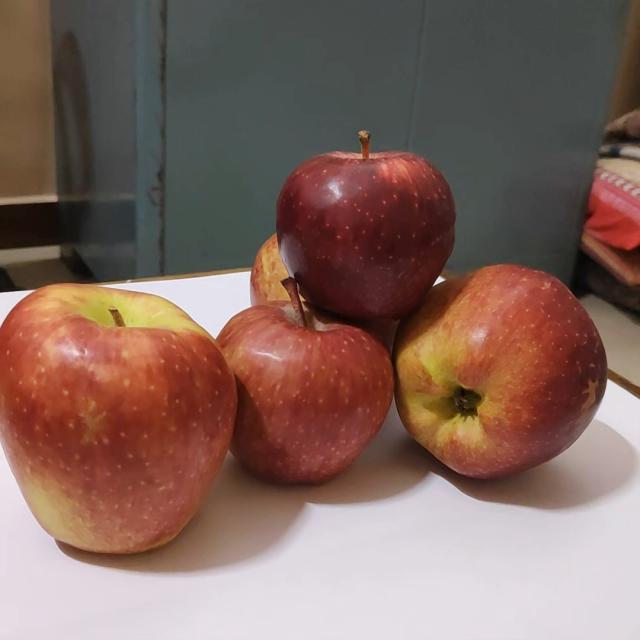apple: (2, 270, 237, 554), (387, 253, 613, 478), (208, 268, 396, 490), (267, 118, 456, 315), (245, 221, 310, 308)
